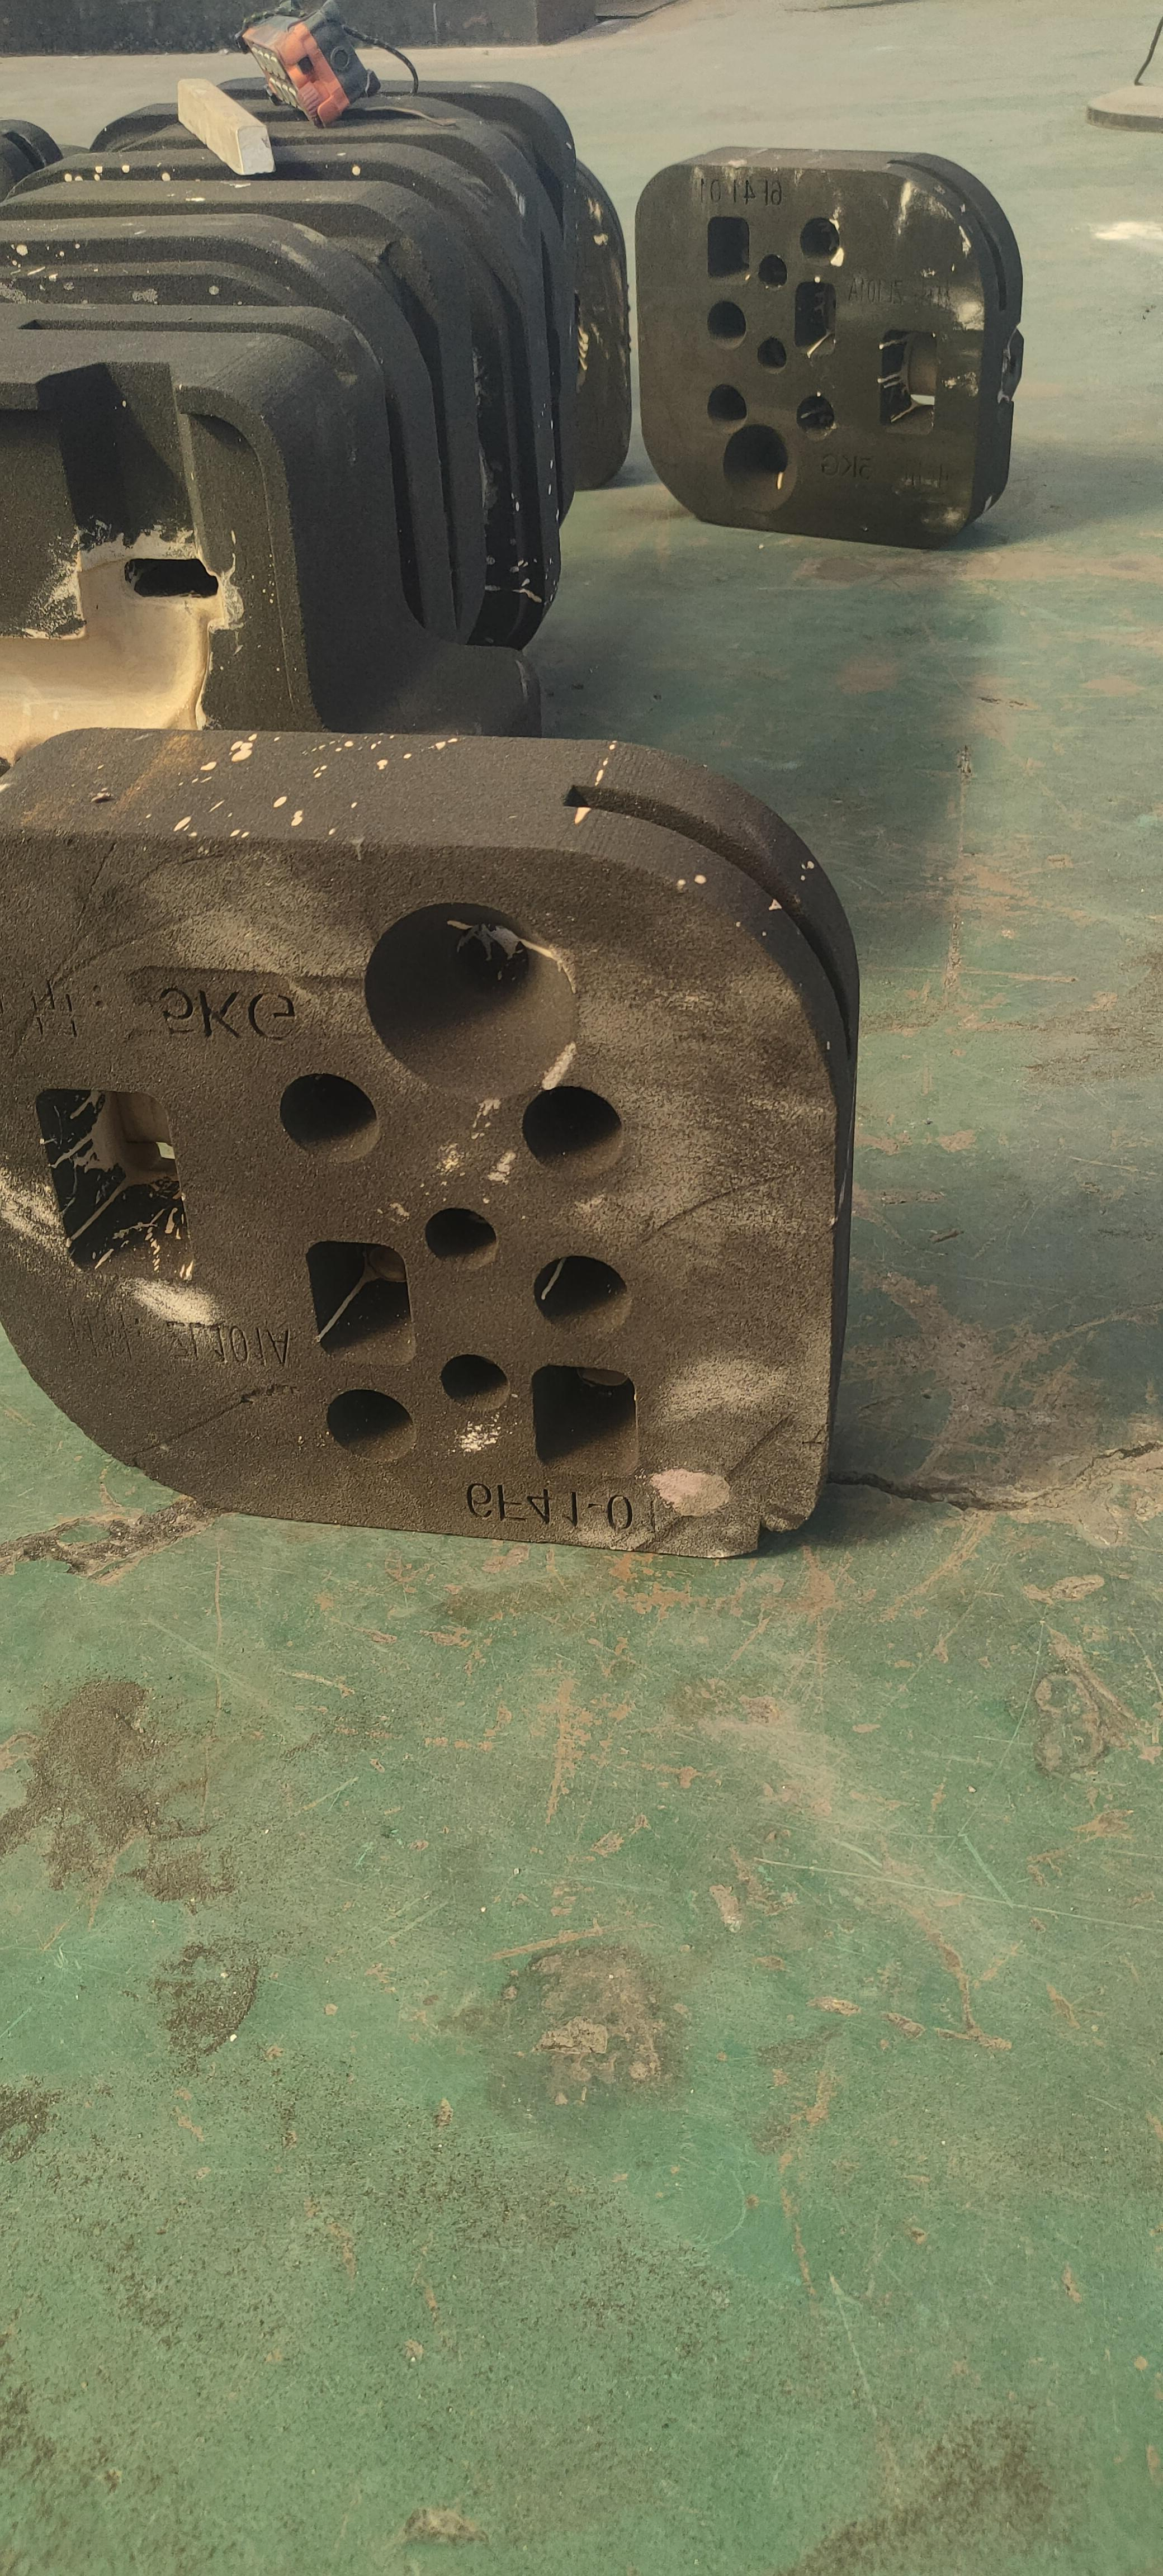pouring hole: (365, 902, 573, 1099), (361, 803, 475, 889), (721, 426, 798, 511)
